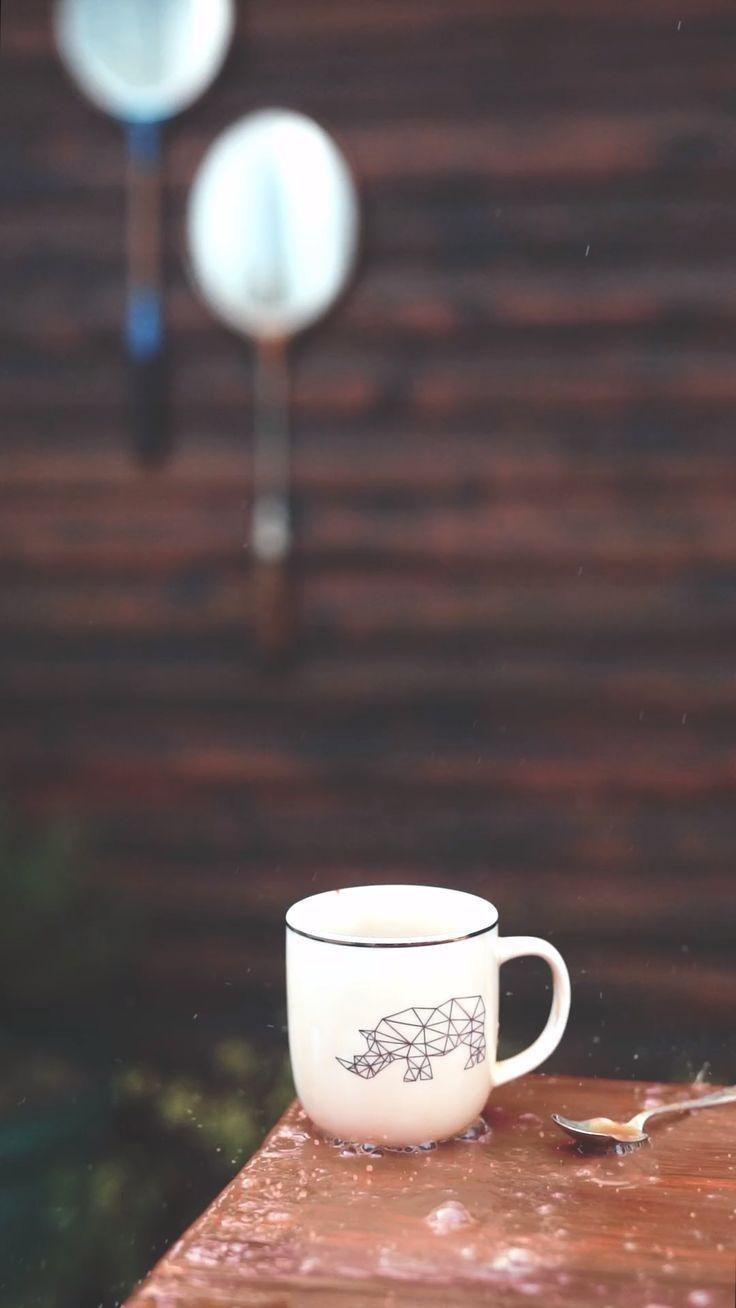cup-handle: (281, 881, 576, 1152)
